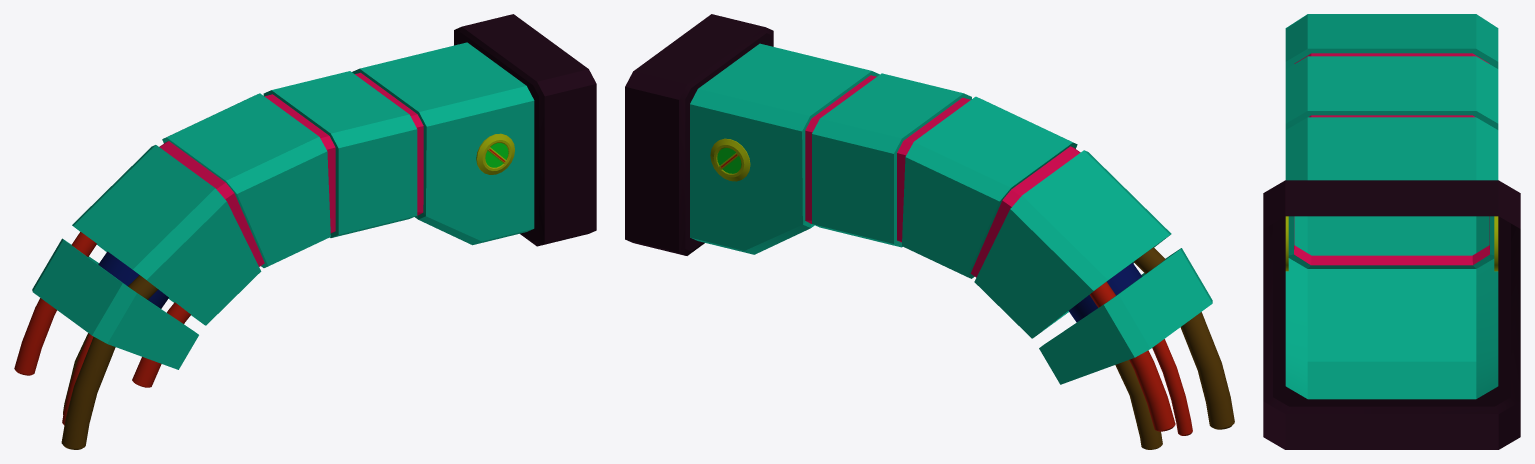
The model's file is OBJ_Platfrom_Destroy.fbx.
The picture shows the model from 3 angles, left to right: view 1: azimuth 30°, elevation 25°; view 2: azimuth 150°, elevation 25°; view 3: azimuth 270°, elevation 25°; orthographic projection. The views are drawn at different scales.
Visible parts, largest first — view 1: OBJ_Platform_Destroy; view 2: OBJ_Platform_Destroy; view 3: OBJ_Platform_Destroy.
Part boxes in pixels (x1,y1,x2,y2): OBJ_Platform_Destroy: (14,14,596,449); OBJ_Platform_Destroy: (625,14,1234,449); OBJ_Platform_Destroy: (1263,14,1520,449).
Bounding box in the file's own units: 59.17 × 29.52 × 18.12.
